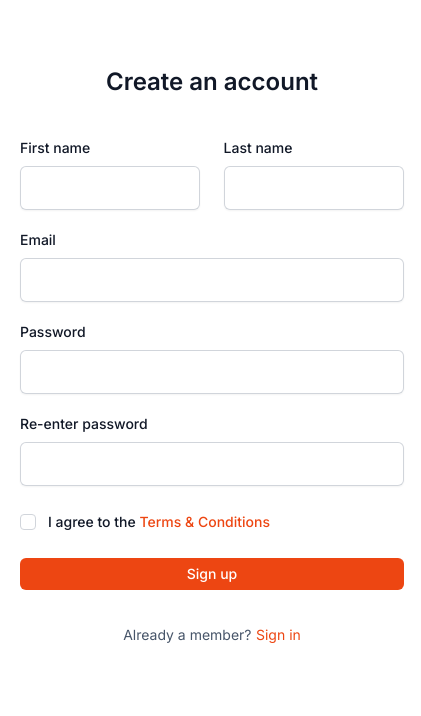
Test: signUp › Show error message when submitting the form with missing fields
Click the button with test id "submit-button". click: {"x": 212, "y": 574}
box: [20,558,404,590]
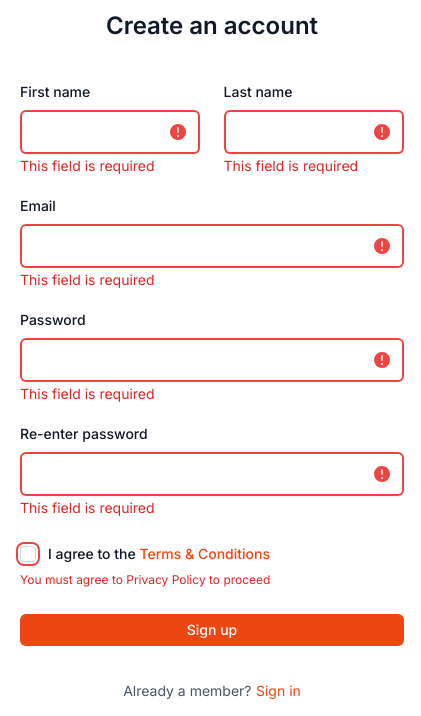
Expected: the field with test id "first-name" is shown, [20,110,200,154]
Expected: the text "You must agree to Privacy Policy to proceed" is shown, [20,572,270,587]
